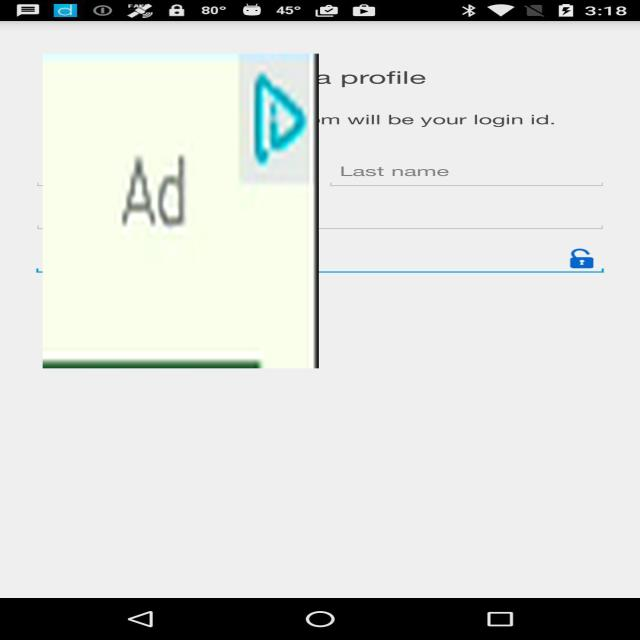sneaking: (42, 54, 318, 368)
